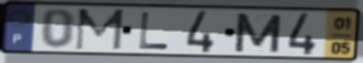0: (38, 7, 77, 50)
4: (286, 11, 318, 57), (185, 9, 217, 55)
L: (137, 11, 171, 52)
M: (72, 8, 127, 52), (232, 12, 284, 55)
